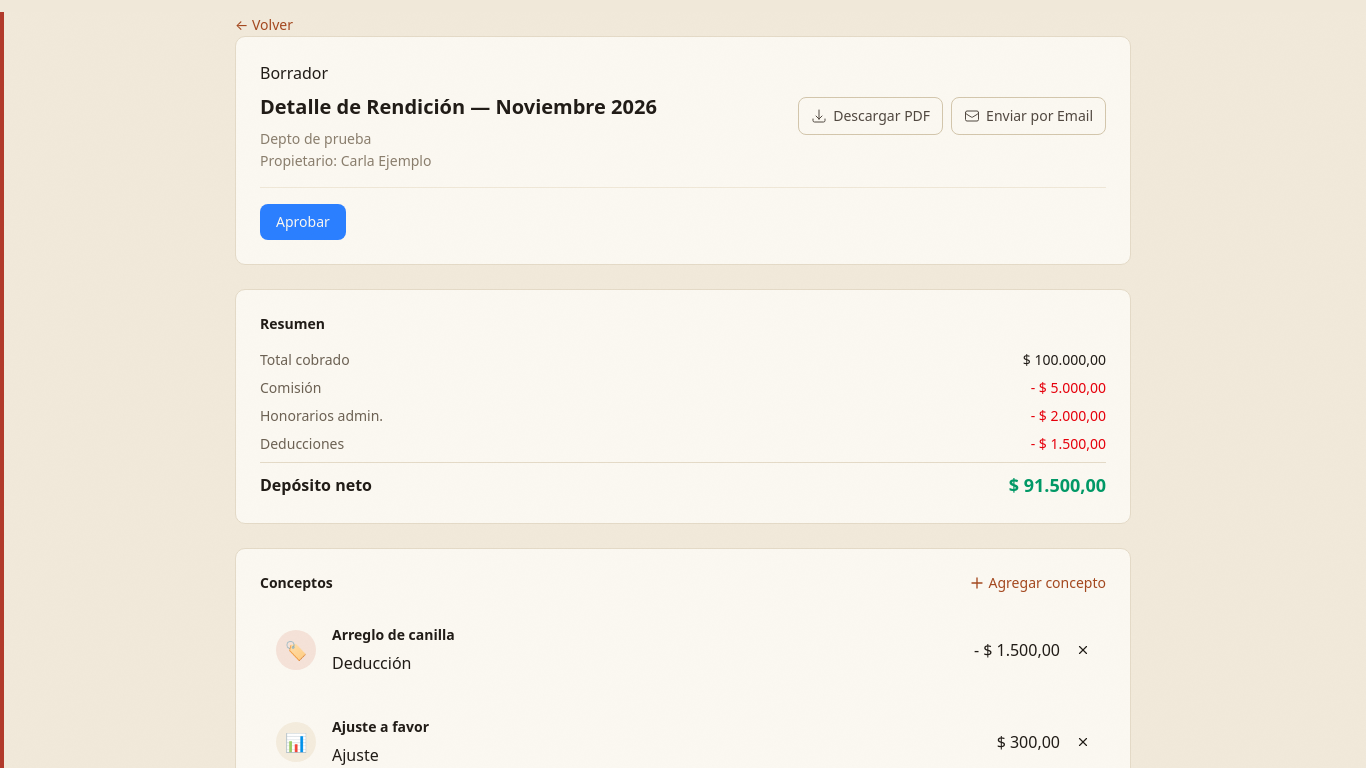
Scenario: RenditionDetail › muestra el mensaje de la API si la transición falla
The width and height of the screenshot is (1366, 768).
Expected: the heading "Detalle de Rendición — Noviembre 2026" is shown, [260,93,657,121]
Click the button "Aprobar". click: (303, 222)
box: [260,204,346,240]
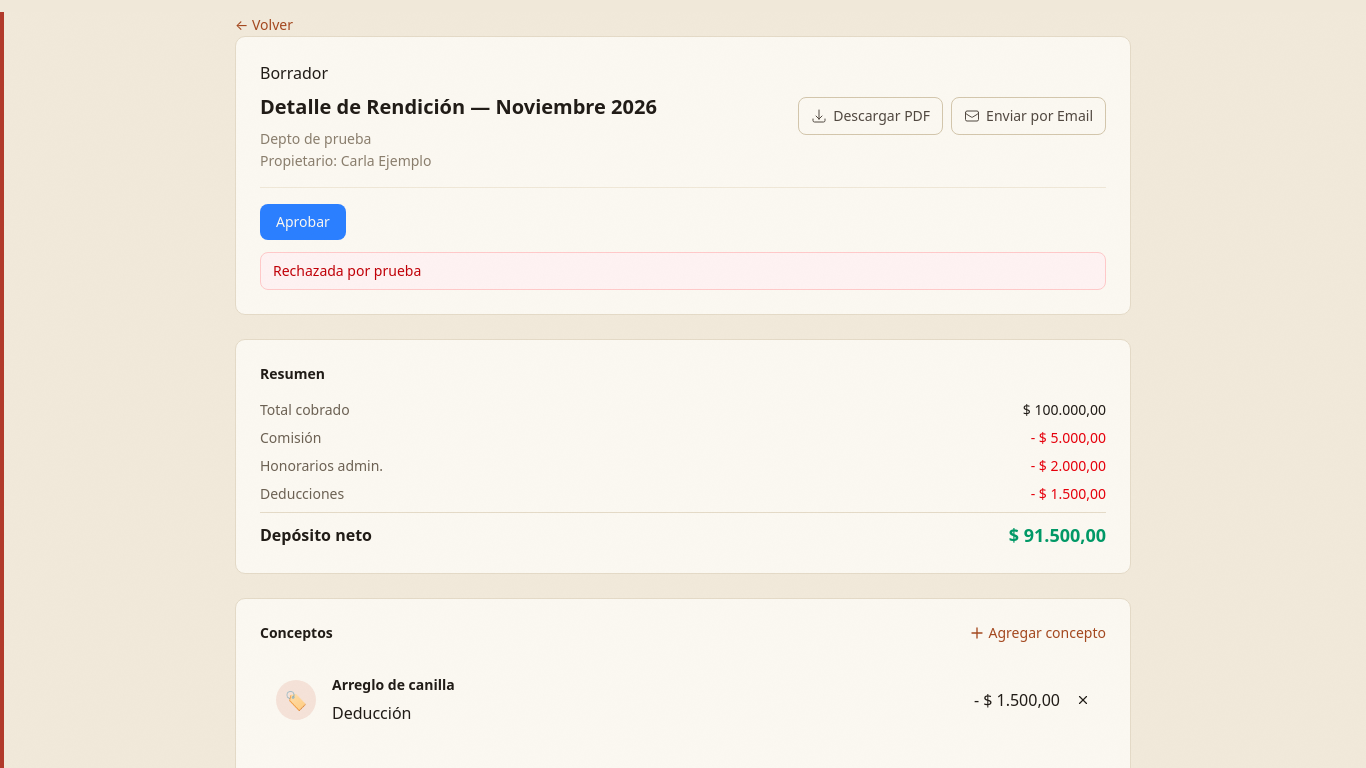
Expected: the text "Rechazada por prueba" is shown, [260,252,1106,290]
